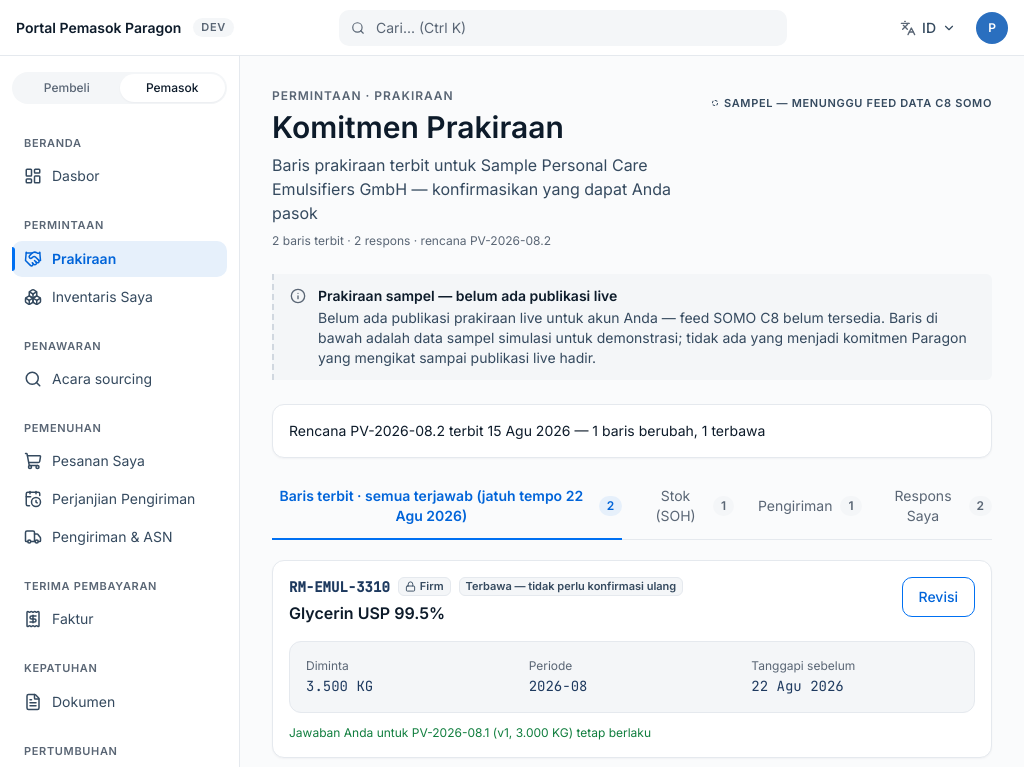
A3 · the supplier revises a DISPUTED answer (Probe A, on the surface) › ID from birth — the button, the panel and the ledger entry are Indonesian
This screenshot has width=1024, height=767.
Click the text "Respons Saya" at (923, 505), box [894,487,952,524]
(page scrolled)
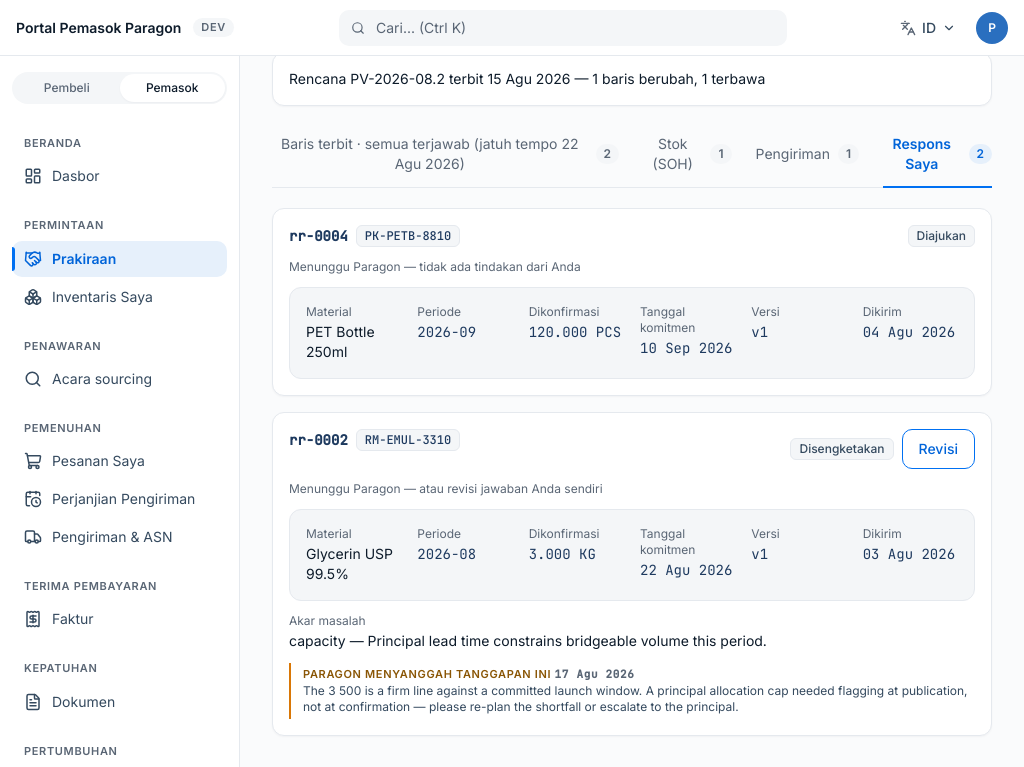
Expected: the button with test id "sdcsup-response-revise" reads "Revisi"
Click the button with test id "sdcsup-response-revise" at (938, 449), box [902,429,975,469]
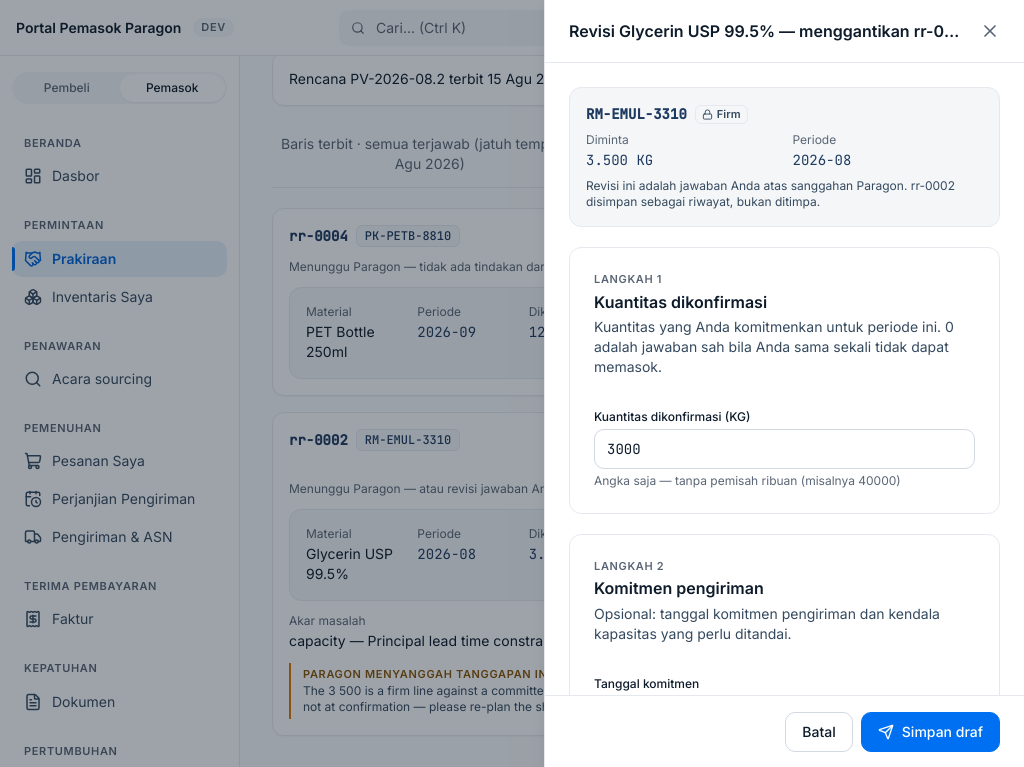
Expected: the heading "Revisi Glycerin USP 99.5% — menggantikan rr-0002" is shown, [569,20,964,42]
